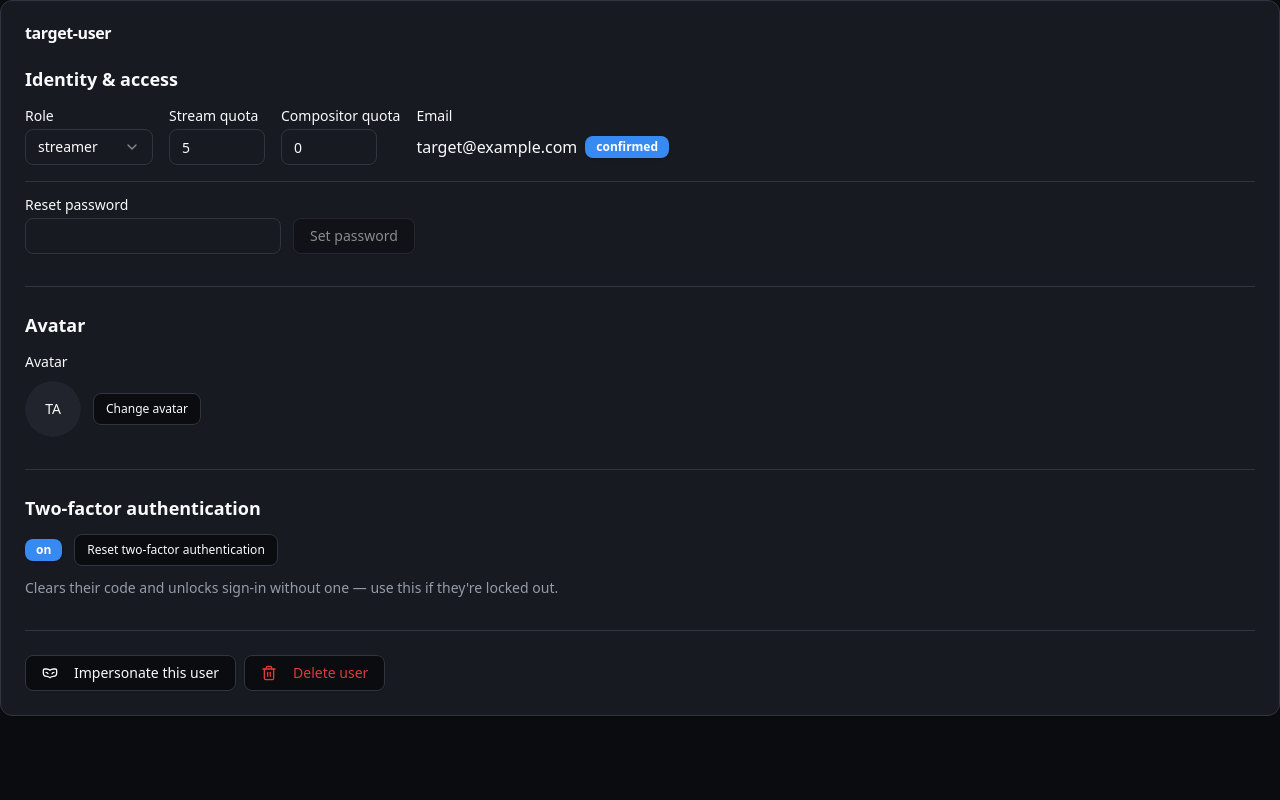
Test: AdminUserEditPage › force-resets two-factor authentication after confirming
Click the button "Reset two-factor authentication".
click(176, 550)  # box x1=74 y1=534 x2=278 y2=566
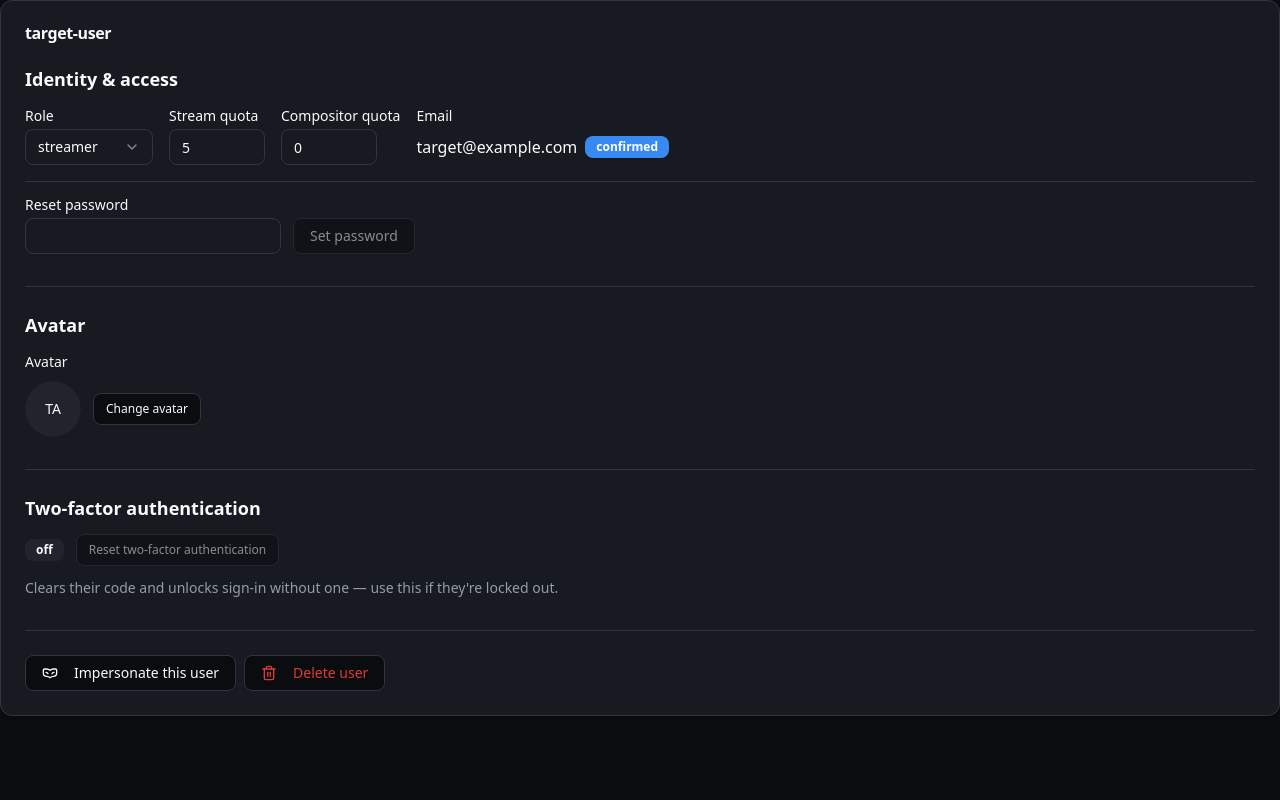
Expected: the button "Reset two-factor authentication" is disabled, x1=76 y1=534 x2=279 y2=566
